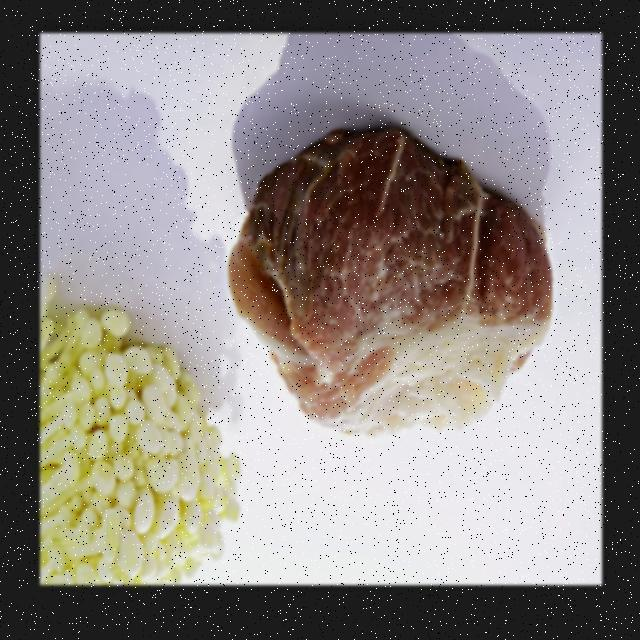pork: (230, 125, 570, 443)
